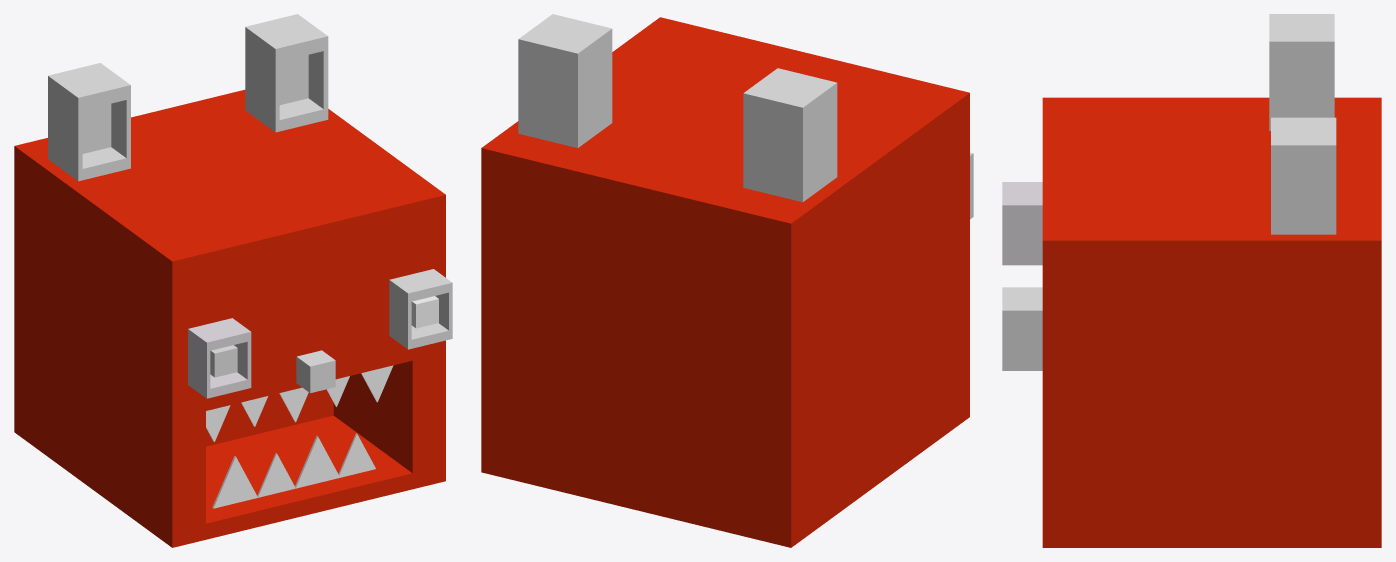
File: cube_monster_no_base.glb
The picture shows the model from 3 angles, left to right: view 1: azimuth 30°, elevation 25°; view 2: azimuth 150°, elevation 25°; view 3: azimuth 270°, elevation 25°; orthographic projection. The views are drawn at different scales.
Parts seen in each view (by area): view 1: Cube_16, Cube.002_1, Cube.001_0, Cube.003_2, Cube.005_4, Cube.007_6, Plane.005_12, Plane.006_13, Plane.007_14, Plane.008_15, Cube.004_3, Cube.006_5 (+2 smaller); view 2: Cube_16, Cube.001_0, Cube.002_1; view 3: Cube_16, Cube.002_1, Cube.001_0, Cube.003_2, Cube.005_4.
Boxes of the visible parts, box(x1,y1,x2,y2) form: Cube_16: box(14, 89, 445, 547); Cube.002_1: box(245, 14, 328, 132); Cube.001_0: box(48, 63, 130, 181); Cube.003_2: box(188, 318, 251, 398); Cube.005_4: box(389, 269, 452, 349); Cube.007_6: box(296, 350, 335, 393); Plane.005_12: box(212, 455, 257, 508); Plane.006_13: box(295, 436, 338, 488); Plane.007_14: box(257, 453, 295, 497); Plane.008_15: box(338, 433, 375, 478); Cube.004_3: box(210, 345, 237, 377); Cube.006_5: box(411, 296, 438, 328); Cube_16: box(481, 17, 969, 547); Cube.001_0: box(743, 68, 837, 202); Cube.002_1: box(518, 14, 612, 147); Cube_16: box(1042, 97, 1381, 547); Cube.002_1: box(1271, 117, 1336, 234); Cube.001_0: box(1269, 14, 1334, 130); Cube.003_2: box(1002, 182, 1042, 265); Cube.005_4: box(1002, 287, 1042, 370).
Size of the model in its own units: 6.1 by 7.88 by 6.83.
